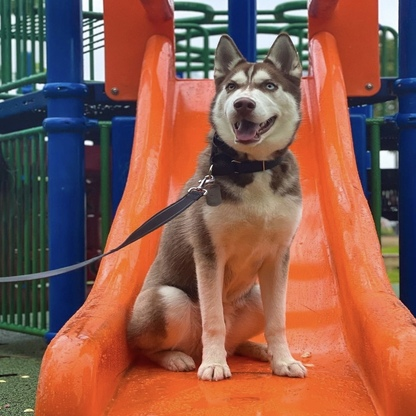husky: (123, 31, 319, 386)
